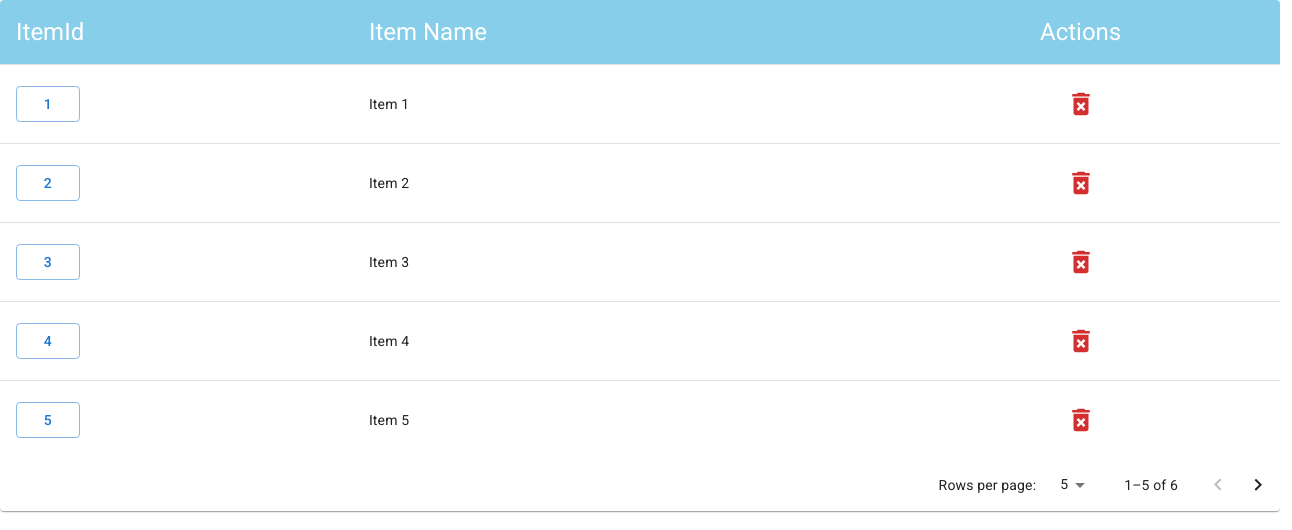
Utiliza la paginación para ver items restantes
Click the button titled "Go to next page" at (1258, 485), box [1238,465,1278,505]
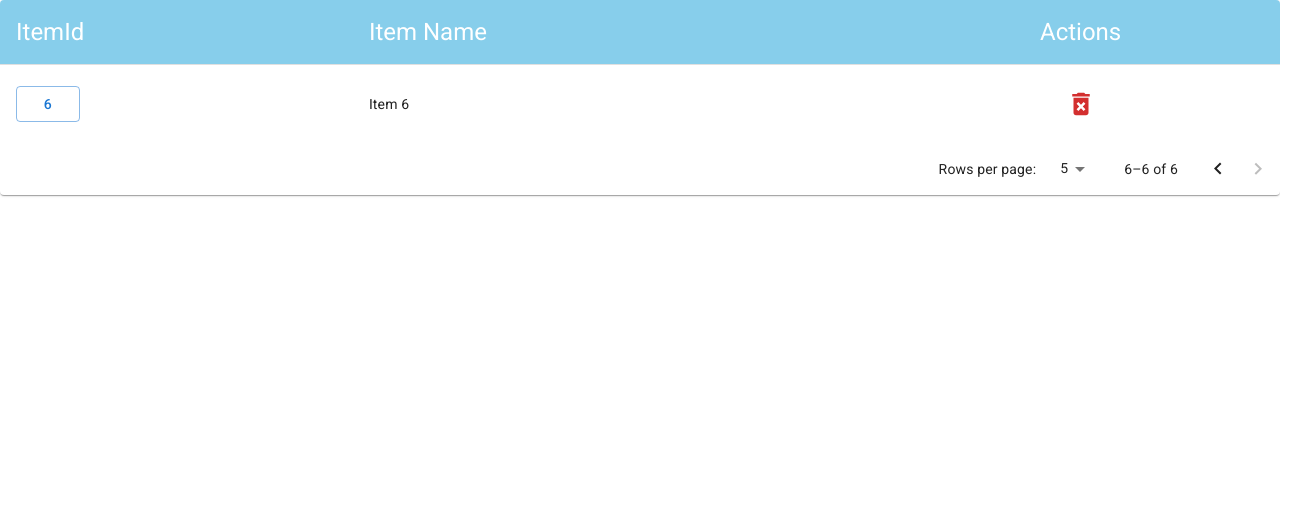
Check: the text "Item 6" is shown, box [353,65,881,143]
Check: the text "Item 5" is gone
